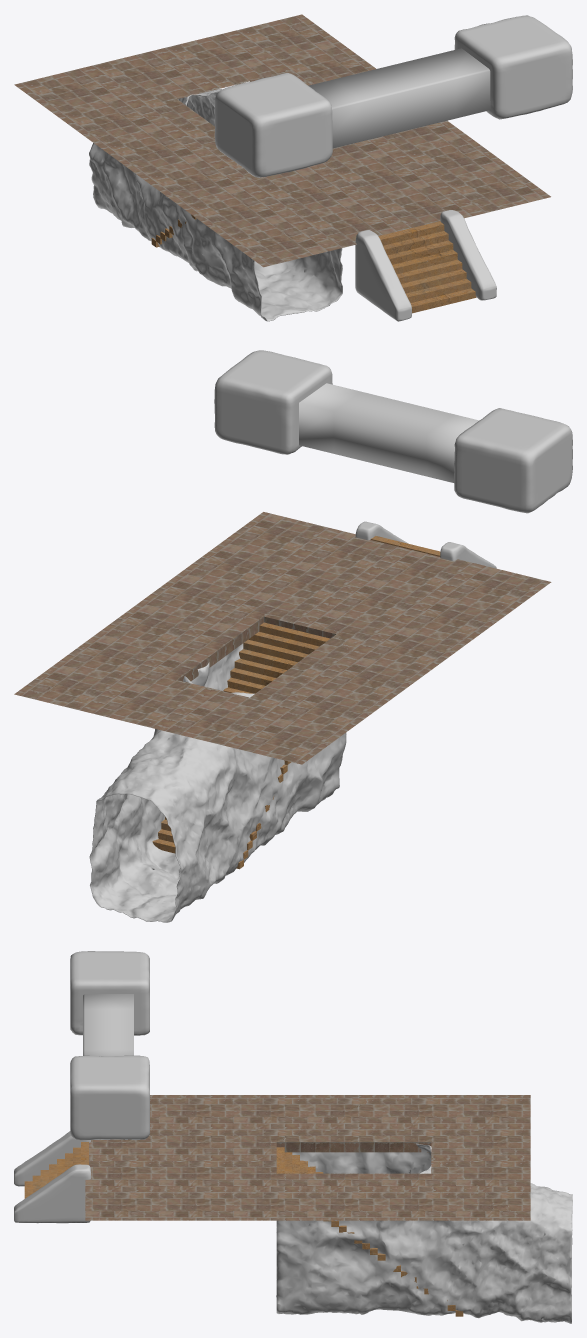
Rendered from HouseLayout.gltf.
3 renders of one model, top to bottom at view 1: azimuth 30°, elevation 25°; view 2: azimuth 150°, elevation 25°; view 3: azimuth 270°, elevation 25°, orthographic. The views are drawn at different scales.
Visible parts, largest first — view 1: TileGround, CornerCeilingCubeLowPoly, CaveWall, CeilingBar, Stairs, OuterStairBorderLowPoly; view 2: TileGround, CaveWall, CornerCeilingCubeLowPoly, CeilingBar, Stairs2, OuterStairBorderLowPoly; view 3: TileGround, CaveWall, CornerCeilingCubeLowPoly, OuterStairBorderLowPoly, CeilingBar, Stairs2, Stairs.
Part boxes in pixels (x1,y1,x2,y2): TileGround: (14,14,550,267); CornerCeilingCubeLowPoly: (214,15,572,177); CaveWall: (89,89,342,321); CeilingBar: (308,48,490,148); Stairs: (378,221,476,313); OuterStairBorderLowPoly: (355,210,496,321); TileGround: (14,512,551,764); CaveWall: (89,643,346,922); CornerCeilingCubeLowPoly: (214,350,572,513); CeilingBar: (299,383,478,482); Stairs2: (152,622,329,869); OuterStairBorderLowPoly: (355,521,496,568); TileGround: (85,1095,530,1220); CaveWall: (276,1143,572,1323); CornerCeilingCubeLowPoly: (70,951,149,1140); OuterStairBorderLowPoly: (14,1131,90,1223); CeilingBar: (83,994,133,1056); Stairs2: (276,1147,463,1316); Stairs: (24,1142,88,1198).
Size of what is drawn, in the model's own units: 13.22 by 13.08 by 22.6.
